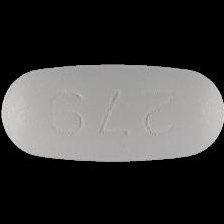55111-279: (0, 0, 224, 224)
